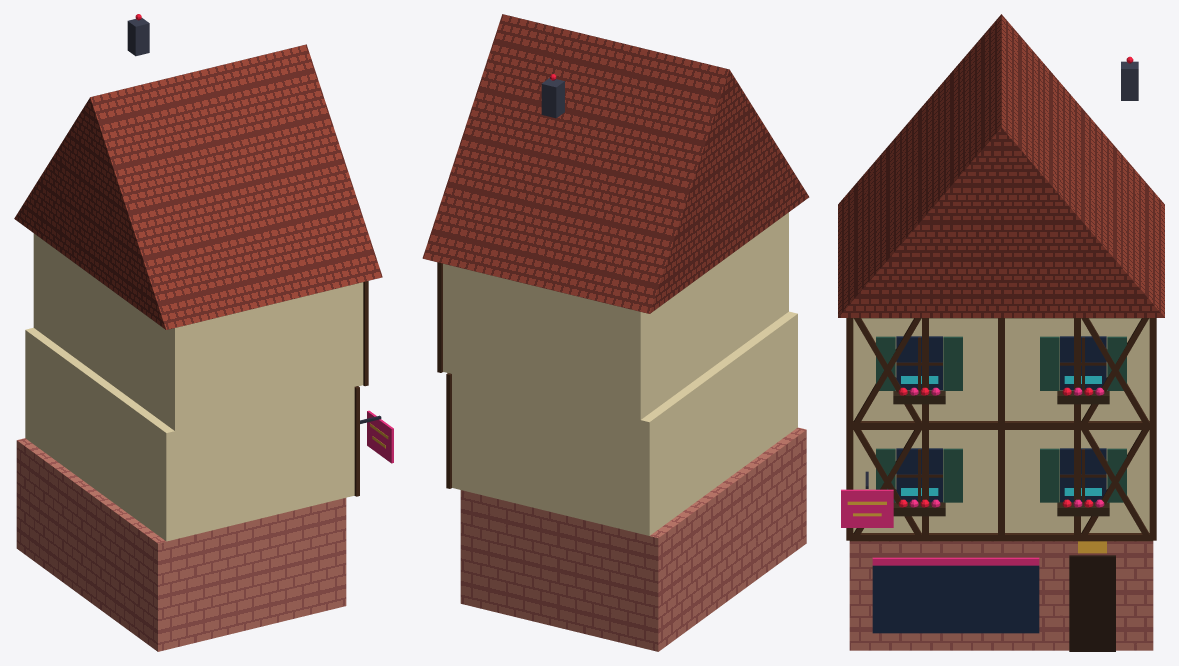
The model's file is pf_maison_a.glb.
3 views of the same model, side by side, from view 1: azimuth 30°, elevation 25°; view 2: azimuth 150°, elevation 25°; view 3: azimuth 270°, elevation 25° (orthographic). The views are drawn at different scales.
Parts seen in each view (by area): view 1: p_prism.009, p_box.1041, p_box.1046, p_box.1072, p_box.1103, p_box.1101, p_box.1049, p_box.1075; view 2: p_prism.009, p_box.1041, p_box.1046, p_box.1072, p_box.1101, p_box.1053, p_box.1079; view 3: p_prism.009, p_box.1072, p_box.1041, p_box.1046, p_box.1042, p_box.1044, p_box.1073, p_box.1047, p_box.1103, p_box.1065, p_box.1084, p_box.1091 (+33 smaller).
Part boxes in pixels (x1,y1,x2,y2): p_prism.009: (14, 44, 382, 329); p_box.1041: (16, 438, 346, 651); p_box.1046: (25, 328, 354, 541); p_box.1072: (33, 233, 363, 430); p_box.1103: (367, 410, 393, 463); p_box.1101: (127, 18, 149, 56); p_box.1049: (354, 386, 359, 496); p_box.1075: (363, 281, 368, 386); p_prism.009: (422, 14, 809, 313); p_box.1041: (460, 427, 806, 651); p_box.1046: (452, 311, 797, 535); p_box.1072: (443, 212, 788, 419); p_box.1101: (541, 78, 564, 118); p_box.1053: (446, 373, 451, 488); p_box.1079: (437, 262, 442, 372); p_prism.009: (838, 14, 1164, 317); p_box.1072: (853, 318, 1149, 420); p_box.1041: (849, 541, 1153, 650); p_box.1046: (853, 430, 1149, 532); p_box.1042: (872, 565, 1039, 633); p_box.1044: (1069, 555, 1115, 651); p_box.1073: (849, 421, 1153, 429); p_box.1047: (850, 533, 1152, 541); p_box.1103: (841, 489, 893, 527); p_box.1065: (1060, 448, 1106, 502); p_box.1084: (896, 336, 942, 390); p_box.1091: (1060, 336, 1106, 390).
Bounding box in the file's own units: 4.93 × 10.46 × 5.6.
14 materials, 2 textured.
